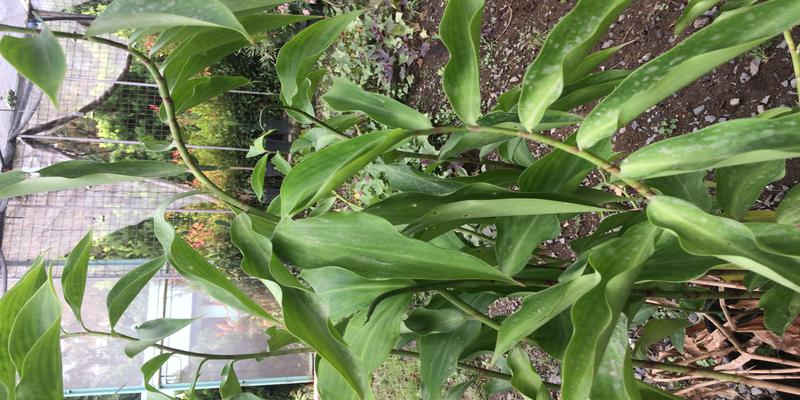Insulin: (251, 125, 765, 374)
